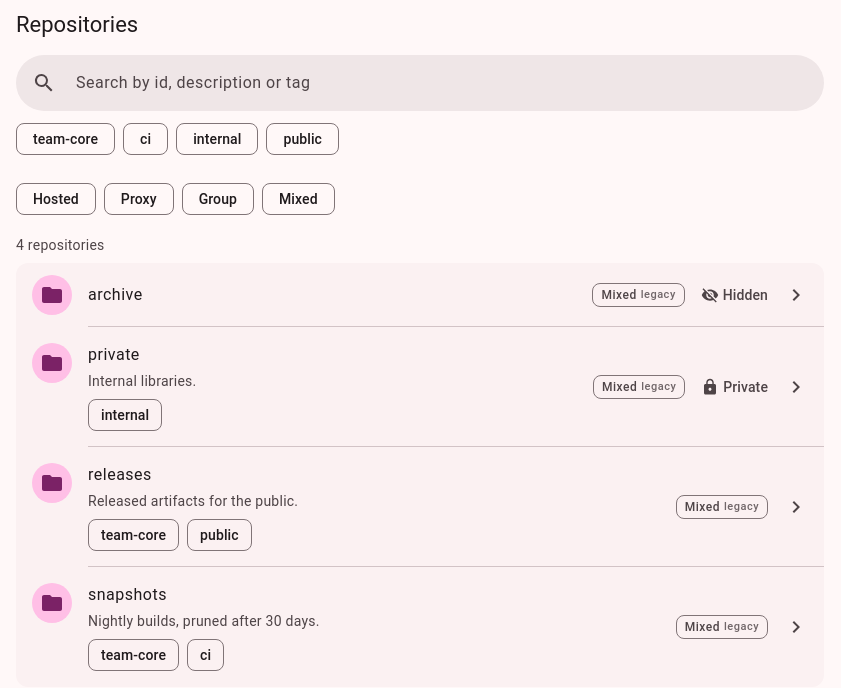
Test: RepositoryOverview empty and failing states › says that nothing matches and offers to clear the filters
Type "zzz" into the search field with placeholder "Search by id, description or tag". click: x=440, y=83
box: [64,63,816,103]
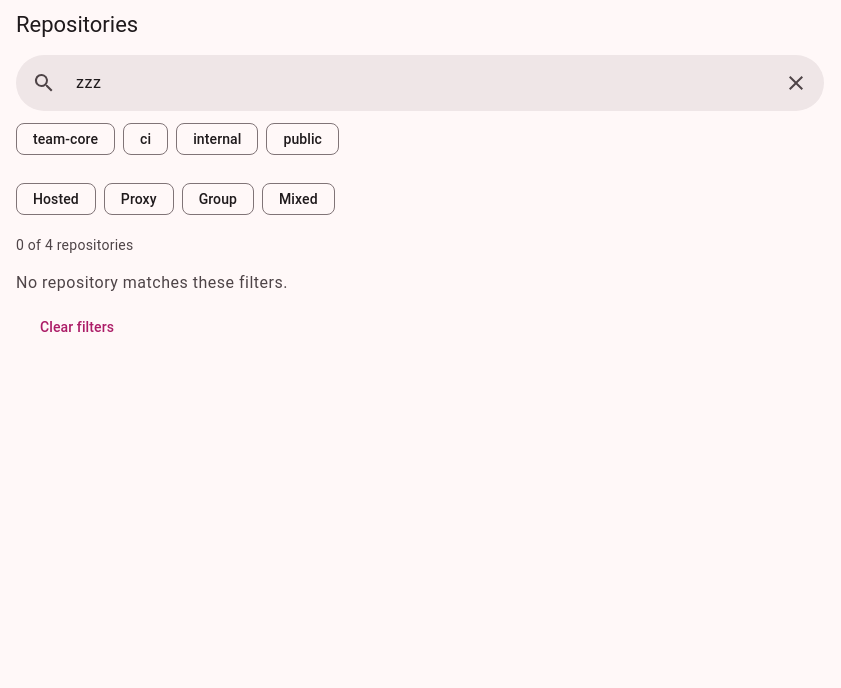
Check: the text "No repository matches these filters." is shown, box [16,271,288,295]
Check: the button "Clear filters" is shown, box [16,307,138,347]
